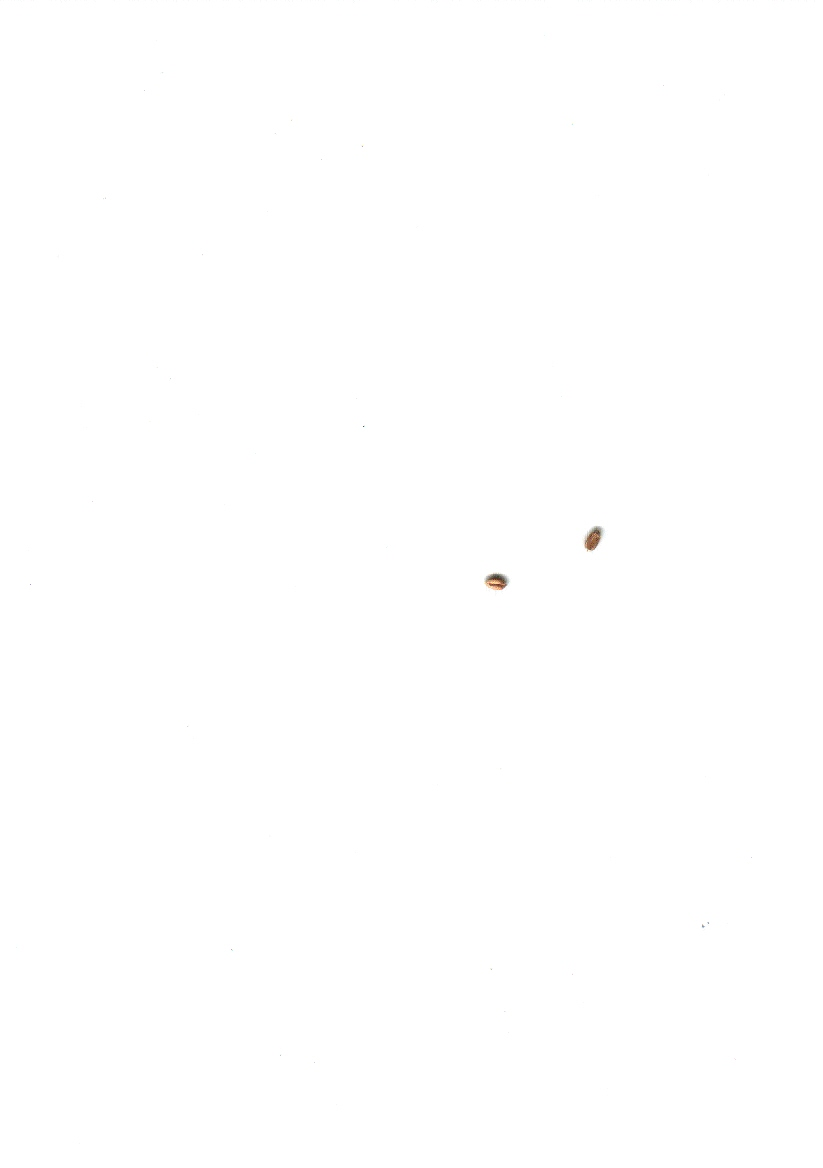grains: (476, 555, 515, 603), (577, 516, 610, 568)
